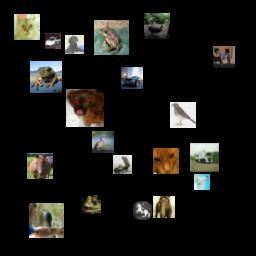airplane: (194, 174, 210, 190)
automobile: (121, 67, 143, 89), (45, 33, 61, 49)
bird: (29, 203, 64, 238), (144, 13, 170, 39), (170, 102, 196, 128), (92, 131, 114, 153)
cat: (14, 14, 40, 40), (153, 148, 179, 174)
dog: (66, 89, 104, 127), (65, 35, 84, 54)
frog: (94, 20, 129, 55), (30, 61, 62, 93), (82, 195, 101, 214)
truck: (190, 143, 219, 172), (113, 155, 132, 174)
